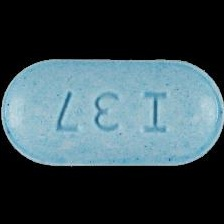64725-0058: (0, 0, 224, 224)
